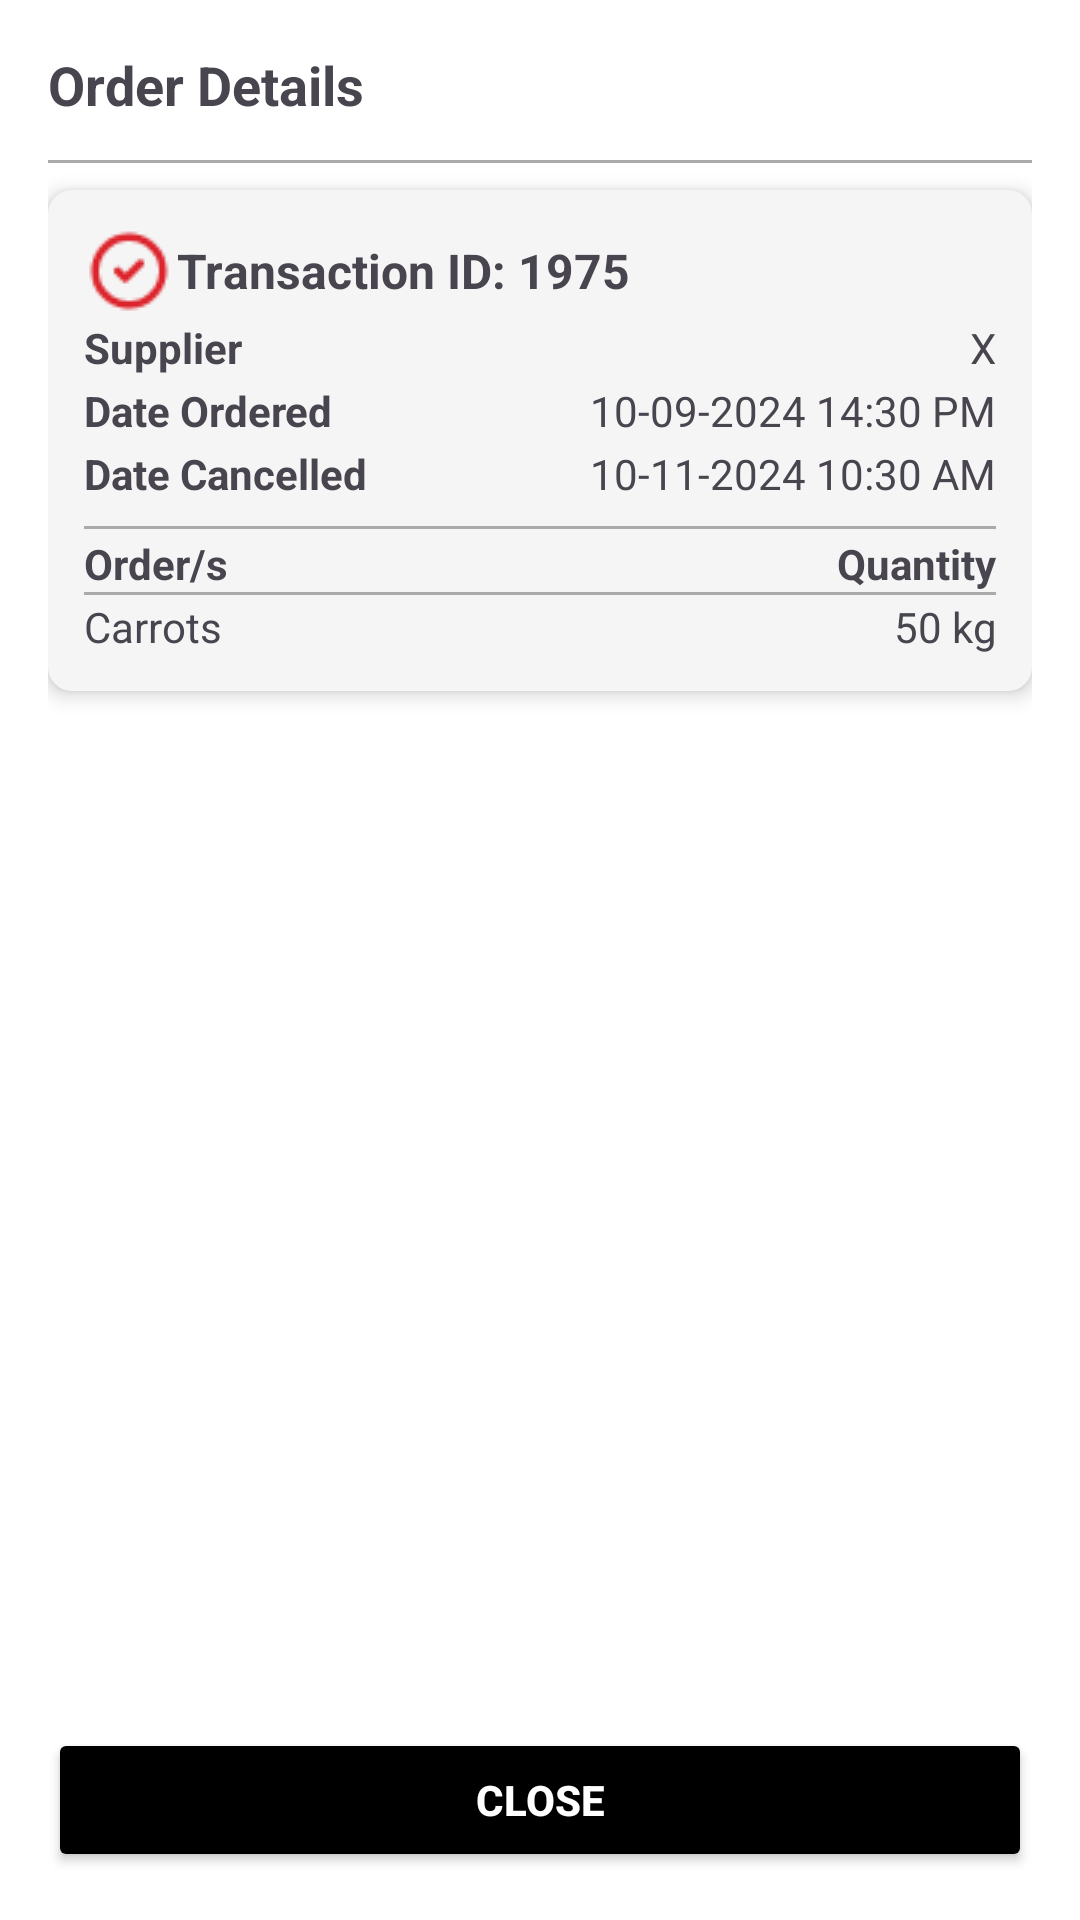

Named icons in this screenshot (1080w x 1920h) and their bounding boxes, bbox(x1, y1, x2, y2):
check: bbox(89, 231, 169, 311)
